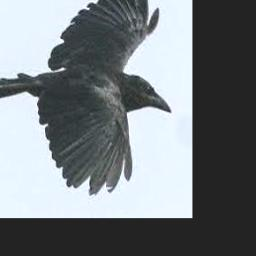Crow: (0, 0, 172, 196)
